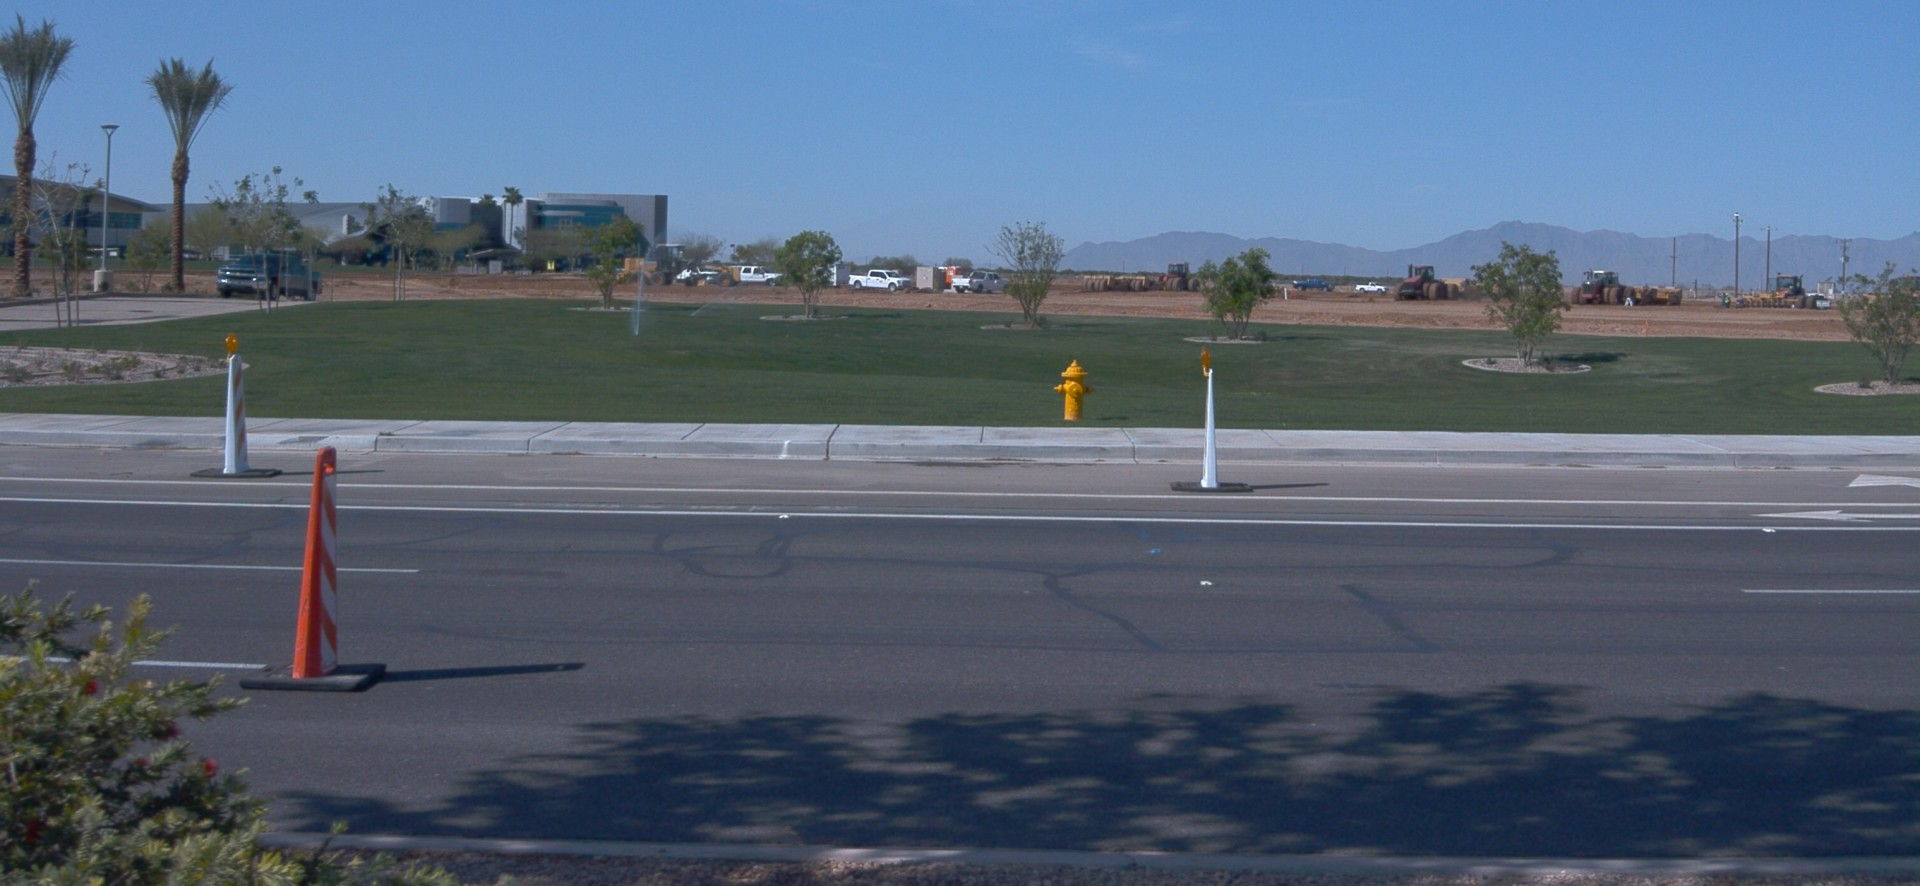TYPE_VEHICLE: (616, 241, 742, 287), (218, 249, 324, 300), (1568, 269, 1636, 309), (1391, 265, 1460, 304), (1145, 257, 1206, 291), (1771, 273, 1818, 313), (848, 269, 913, 293), (1083, 274, 1151, 293), (728, 265, 786, 287), (954, 271, 1012, 291), (810, 264, 855, 285), (675, 265, 720, 283), (1290, 278, 1332, 293), (1860, 294, 1892, 313), (1808, 292, 1833, 312), (1353, 283, 1388, 296)
